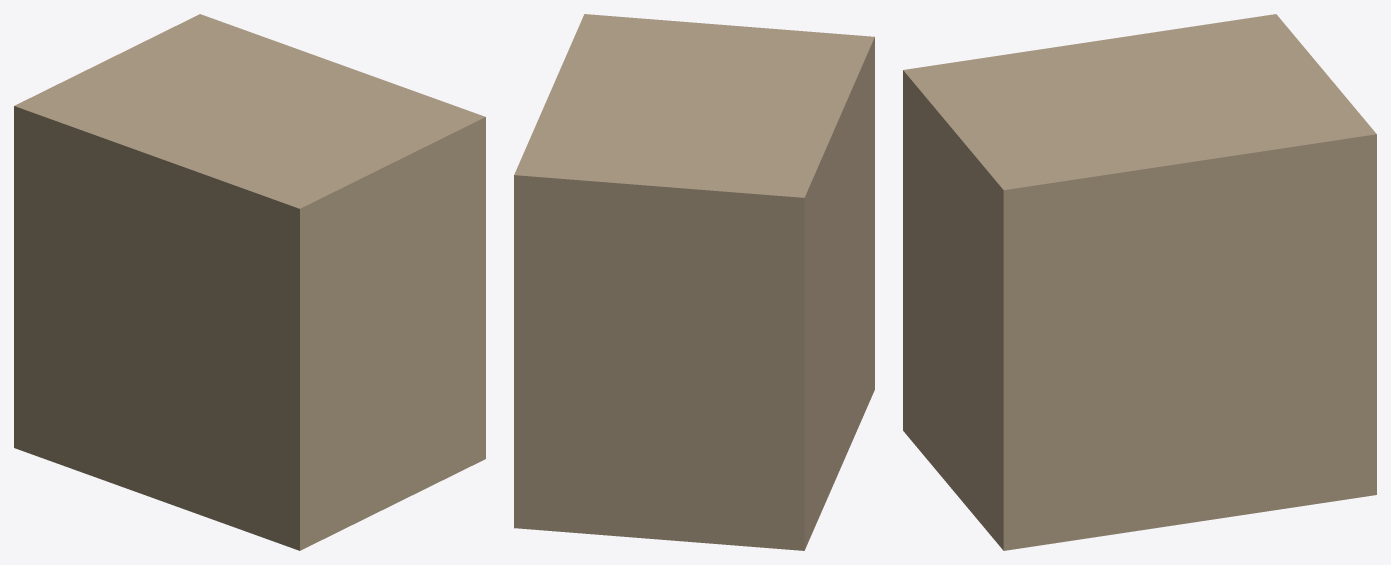
File: bld_107639474.dae
3 renders of one model, left to right at view 1: azimuth 30°, elevation 25°; view 2: azimuth 150°, elevation 25°; view 3: azimuth 270°, elevation 25°, orthographic. The views are drawn at different scales.
Parts seen in each view (by area): view 1: bld_107639474; view 2: bld_107639474; view 3: bld_107639474.
Part boxes in pixels (box(x1,y1,x2,y2)): bld_107639474: box(14, 14, 485, 550); bld_107639474: box(514, 14, 874, 550); bld_107639474: box(903, 14, 1376, 550).
Bounding box in the file's own units: 8.38 × 9.52 × 8.
